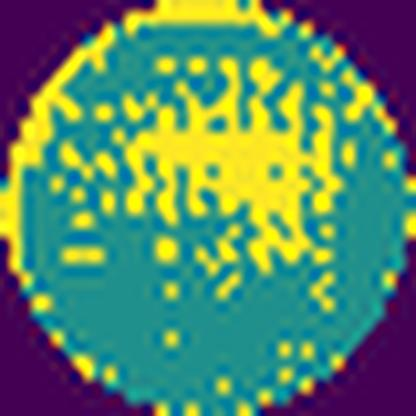Loc: (113, 56, 339, 279)
